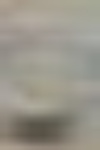POINT: (0, 0, 99, 149)
